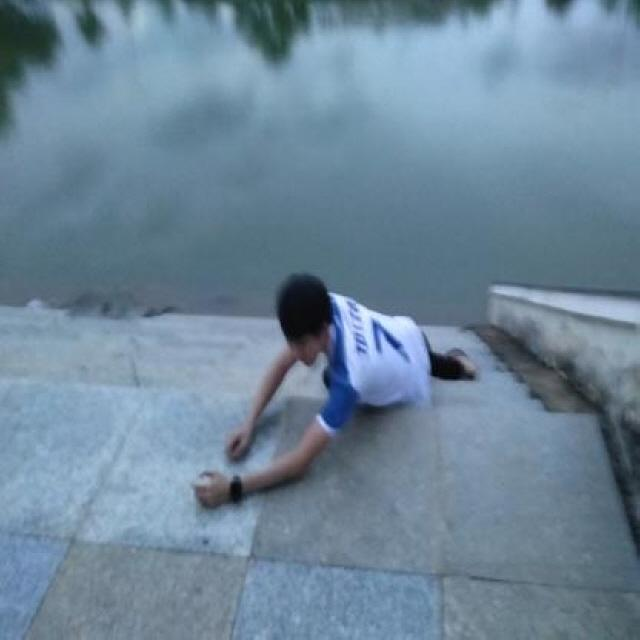Stand: (195, 276, 478, 508)
